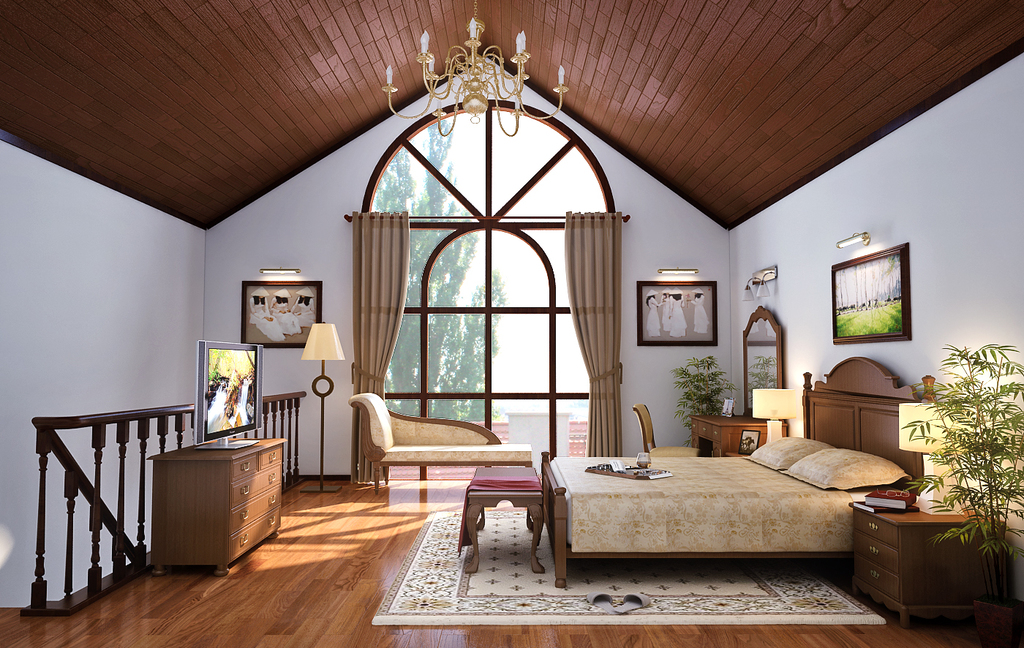cabinet door: (225, 514, 283, 550), (859, 555, 904, 595), (861, 532, 902, 571), (238, 465, 279, 497), (239, 491, 285, 518), (860, 513, 898, 537), (251, 448, 284, 467), (232, 454, 258, 478)
handle: (258, 512, 278, 532), (237, 454, 253, 479), (860, 541, 879, 562), (863, 517, 882, 536), (264, 471, 282, 490), (234, 481, 251, 499), (262, 449, 275, 469), (238, 503, 252, 520), (270, 491, 281, 511), (238, 529, 249, 548), (862, 572, 882, 582)
